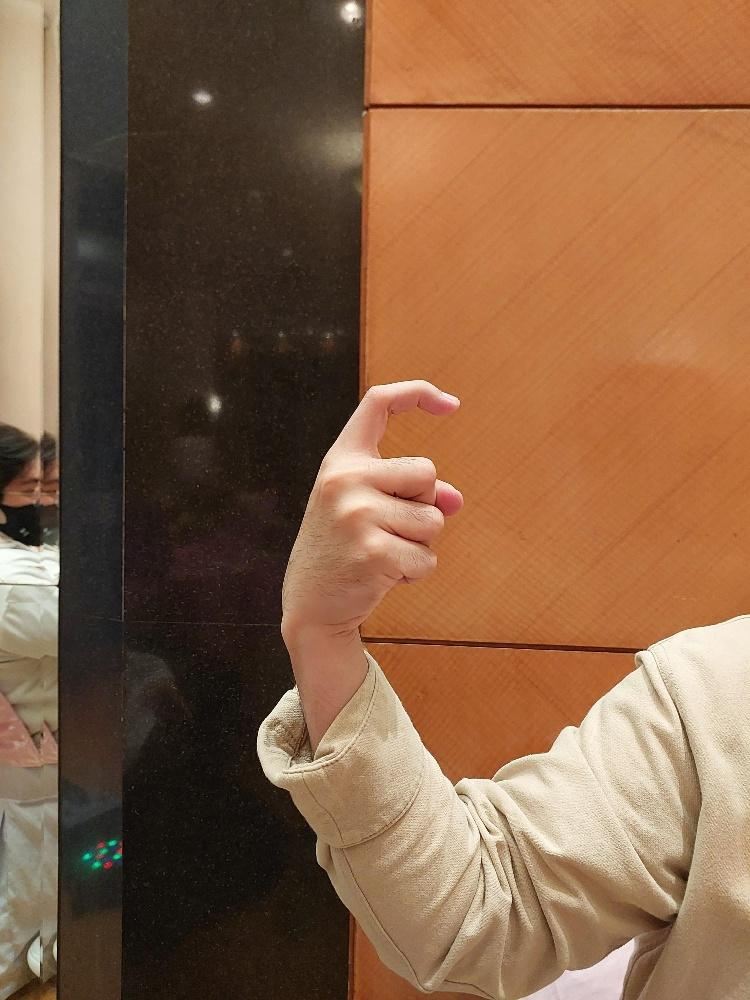x: (275, 373, 466, 641)
